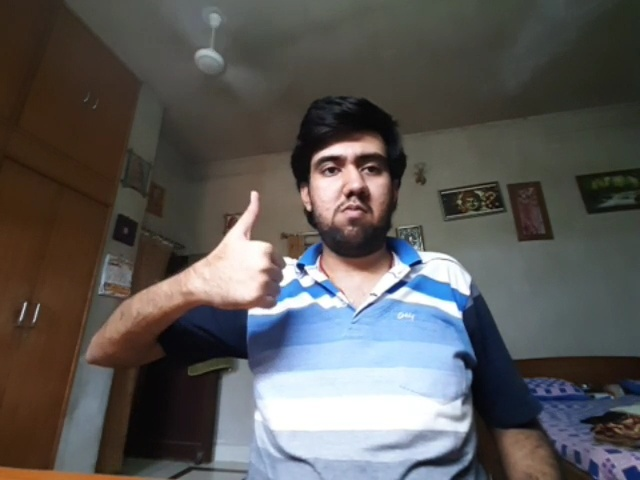Ok: (209, 190, 284, 310)
